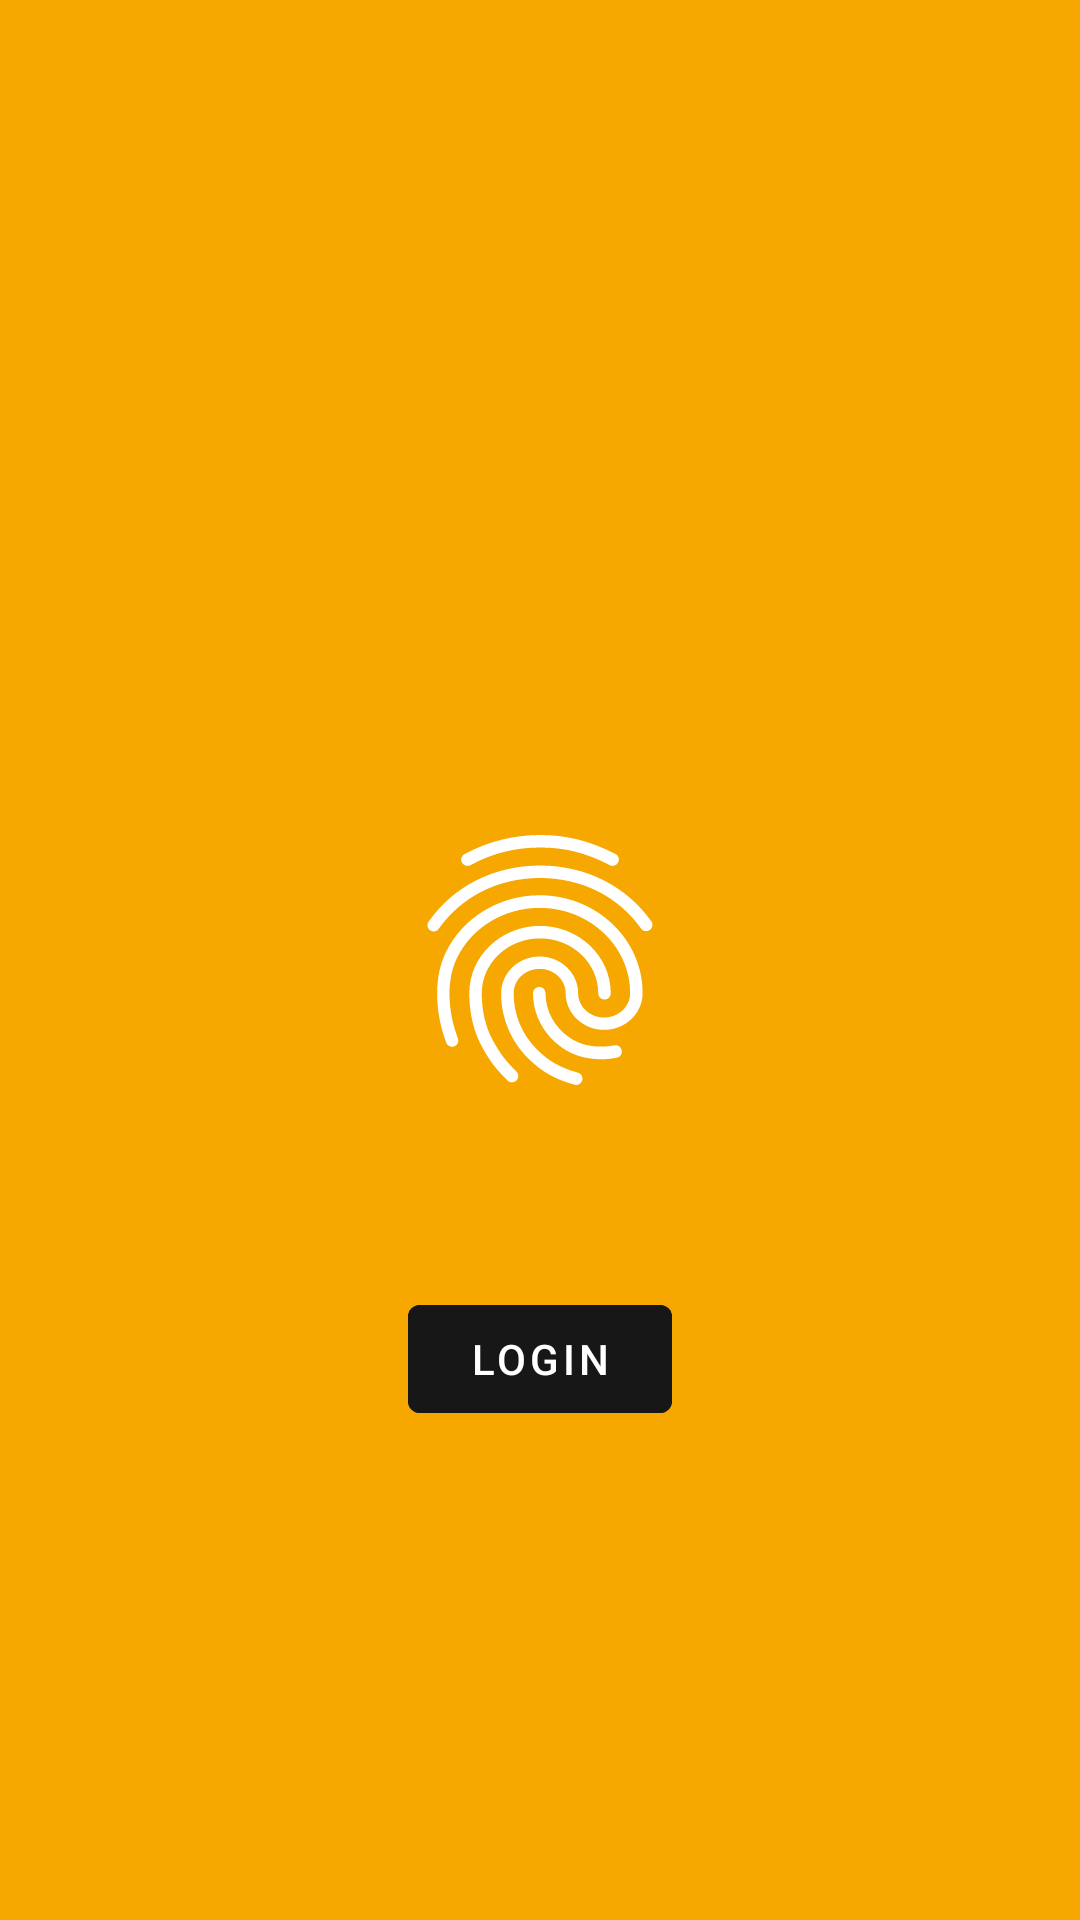

Icons on this 1080w x 1920h Android screen, each with the point to tap as [x,y]:
huella: [540,960]
